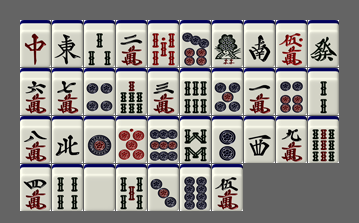0m: (276, 20, 307, 67)
0p: (116, 116, 147, 163)
0s: (148, 20, 179, 67)
1m: (244, 68, 275, 115)
1p: (84, 116, 115, 163)
1s: (212, 20, 243, 67)
1z: (52, 20, 83, 67)
2m: (116, 20, 147, 67)
2p: (212, 116, 243, 163)
2s: (308, 68, 339, 115)
2z: (244, 20, 275, 67)
3m: (148, 68, 179, 115)
3p: (148, 164, 179, 211)
3s: (84, 20, 115, 67)
3z: (244, 116, 275, 163)
4m: (20, 164, 51, 211)
4p: (84, 68, 115, 115)
4s: (52, 164, 83, 211)
4z: (52, 116, 83, 163)
5m: (212, 164, 243, 211)
5p: (212, 68, 243, 115)
5s: (116, 164, 147, 211)
5z: (84, 164, 115, 211)
6m: (20, 68, 51, 115)
6p: (276, 68, 307, 115)
6s: (180, 68, 211, 115)
6z: (308, 20, 339, 67)
7m: (52, 68, 83, 115)
7p: (180, 20, 211, 67)
7s: (116, 68, 147, 115)
7z: (20, 20, 51, 67)
8m: (20, 116, 51, 163)
8p: (180, 164, 211, 211)
8s: (180, 116, 211, 163)
9m: (276, 116, 307, 163)
9p: (148, 116, 179, 163)
9s: (308, 116, 339, 163)
